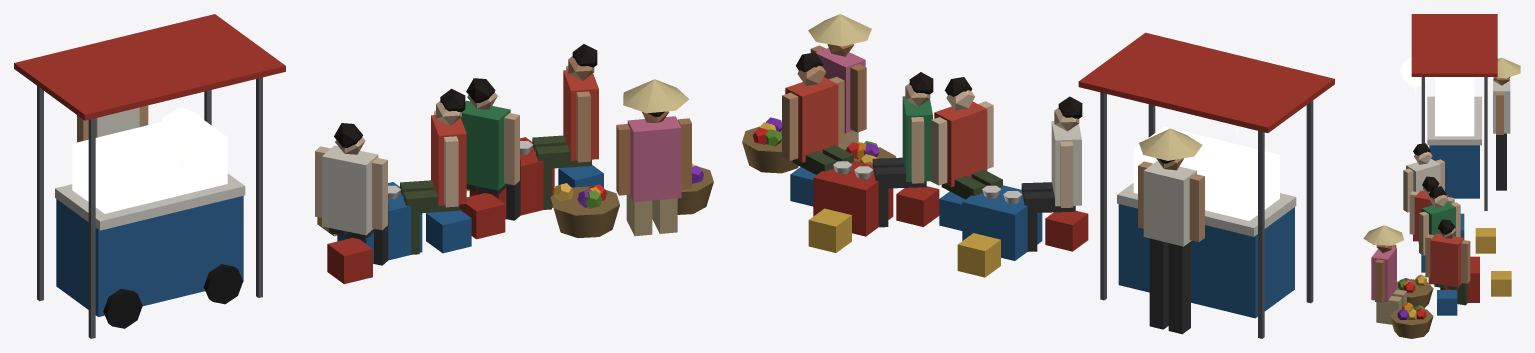
Rendered from hoi_an_food_stall.glb.
3 renders of one model, left to right at view 1: azimuth 30°, elevation 25°; view 2: azimuth 150°, elevation 25°; view 3: azimuth 270°, elevation 25°, orthographic. The views are drawn at different scales.
Visible parts, largest first — view 1: HoiAnFoodStall_mat0, HoiAnFoodStall_LanternGlow; view 2: HoiAnFoodStall_mat0, HoiAnFoodStall_LanternGlow; view 3: HoiAnFoodStall_mat0, HoiAnFoodStall_LanternGlow.
Boxes of the visible parts, left/top/right/bottom form: HoiAnFoodStall_mat0: left=14, top=14, right=713, bottom=338; HoiAnFoodStall_LanternGlow: left=72, top=108, right=227, bottom=213; HoiAnFoodStall_mat0: left=742, top=14, right=1334, bottom=338; HoiAnFoodStall_LanternGlow: left=1133, top=125, right=1279, bottom=220; HoiAnFoodStall_mat0: left=1363, top=14, right=1520, bottom=338; HoiAnFoodStall_LanternGlow: left=1400, top=57, right=1474, bottom=136.
Size of the model in its own units: 5.6 by 2 by 2.01.
